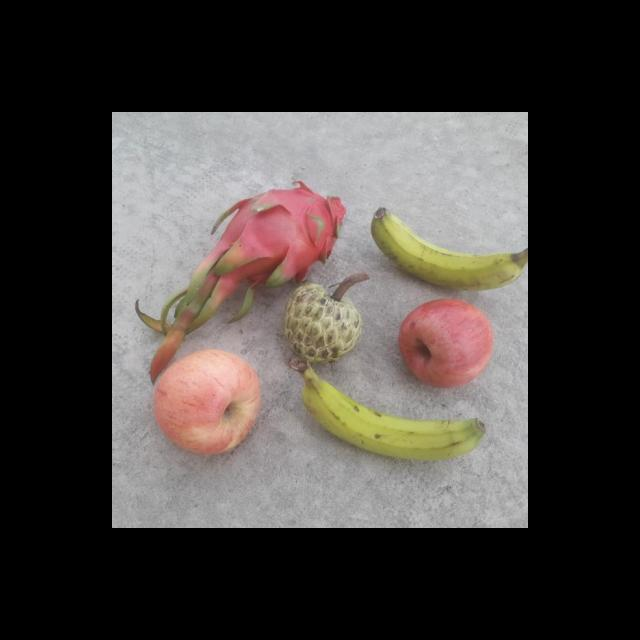Sakya fruit: (282, 280, 359, 364)
apple: (151, 350, 265, 454), (396, 298, 496, 390)
banana: (289, 355, 487, 462), (368, 202, 518, 292)
pitaya: (210, 182, 340, 283)
